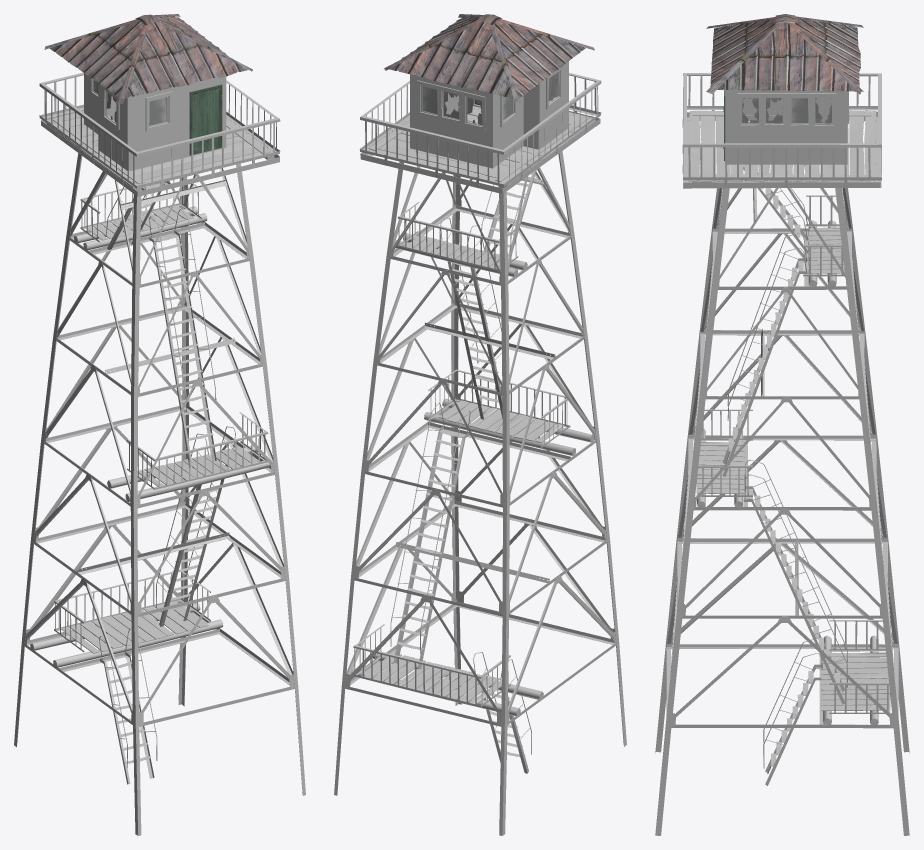
File: Metal_Tower.FBX
3 views of the same model, side by side, from view 1: azimuth 30°, elevation 25°; view 2: azimuth 150°, elevation 25°; view 3: azimuth 270°, elevation 25° (orthographic). The views are drawn at different scales.
Visible parts, largest first — view 1: Metal_Tower, Metal_Tower_Door; view 2: Metal_Tower; view 3: Metal_Tower.
Boxes of the visible parts, x1,y1,x2,y2 form: Metal_Tower: (14,14,305,835); Metal_Tower_Door: (191,86,221,154); Metal_Tower: (334,14,626,835); Metal_Tower: (655,14,909,835).
Size of the model in its own units: 502 by 643 by 2162.
